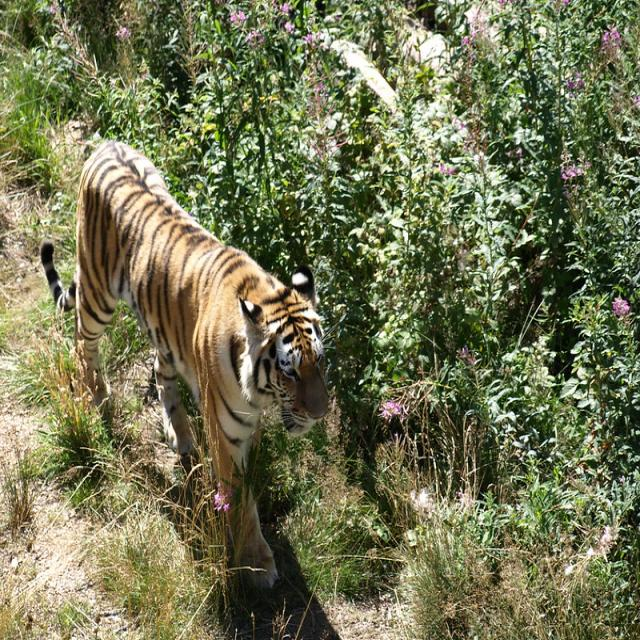Tiger: (38, 140, 326, 590)
